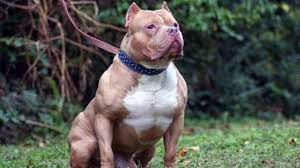Perro Pitbull: (92, 2, 202, 164)
